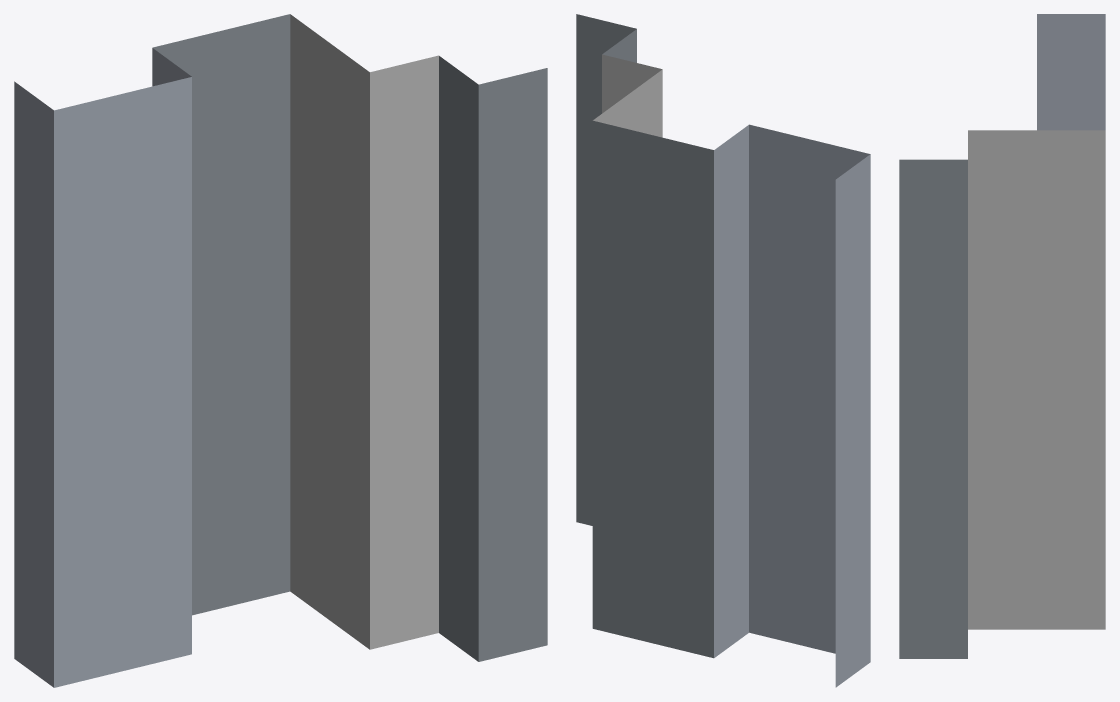
Rendered from cell_264.obj.
3 renders of one model, left to right at view 1: azimuth 30°, elevation 25°; view 2: azimuth 150°, elevation 25°; view 3: azimuth 270°, elevation 25°, orthographic. The views are drawn at different scales.
Size of the model in its own units: 0.75 by 1 by 0.375.
